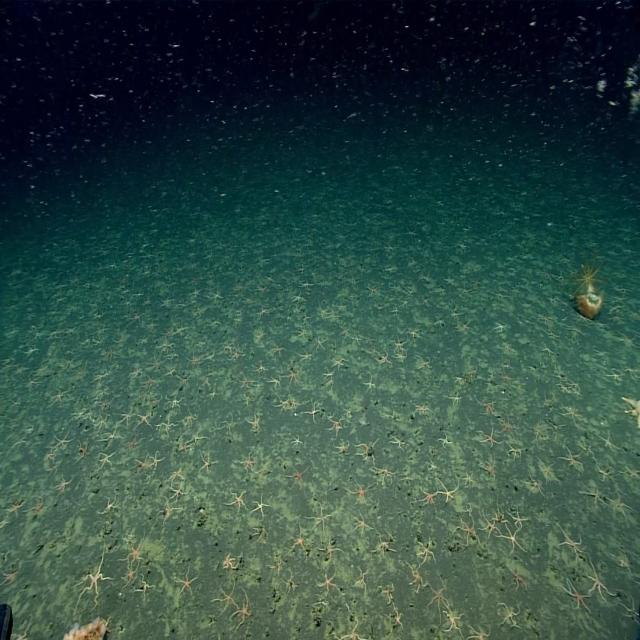brittle-stars: (79, 546, 111, 603), (587, 562, 612, 600), (559, 525, 582, 559), (565, 581, 590, 612), (308, 505, 333, 536), (456, 516, 480, 548), (233, 591, 253, 627), (502, 524, 525, 554), (288, 523, 308, 557), (174, 566, 196, 596), (428, 583, 448, 616), (214, 584, 236, 613), (125, 534, 146, 564), (444, 607, 465, 637), (500, 602, 522, 630), (338, 619, 367, 640), (582, 483, 606, 508), (611, 494, 634, 520), (285, 462, 308, 487), (348, 479, 370, 505), (408, 564, 427, 594), (316, 571, 339, 595), (374, 531, 394, 558), (527, 469, 548, 494), (354, 441, 376, 464), (228, 489, 248, 514), (320, 540, 340, 564), (538, 457, 557, 482), (510, 565, 528, 591), (159, 502, 181, 523), (524, 475, 544, 498), (562, 446, 582, 469), (417, 541, 436, 565), (358, 516, 377, 540), (352, 512, 370, 537), (251, 493, 269, 518), (439, 481, 459, 503), (54, 431, 74, 453), (598, 430, 618, 452), (510, 508, 529, 531), (482, 512, 499, 537), (562, 404, 582, 425), (102, 424, 122, 445), (6, 498, 26, 519), (101, 492, 119, 515), (499, 415, 517, 438), (200, 449, 217, 473), (137, 574, 154, 598), (480, 427, 500, 447), (97, 449, 117, 469), (374, 465, 395, 484), (26, 496, 44, 518), (124, 562, 140, 586), (157, 417, 177, 436), (420, 485, 438, 506), (302, 403, 320, 424), (478, 518, 495, 540), (169, 484, 188, 503), (56, 476, 76, 494), (220, 414, 237, 435), (480, 458, 497, 479), (329, 414, 345, 436), (468, 624, 490, 640), (389, 604, 403, 629), (284, 365, 301, 385), (222, 552, 239, 572), (240, 452, 256, 473), (388, 435, 406, 453), (52, 388, 69, 407), (530, 420, 544, 443), (437, 429, 451, 452), (182, 409, 198, 429), (413, 402, 431, 419), (390, 336, 408, 353), (480, 398, 497, 416), (238, 374, 255, 392), (126, 436, 142, 455), (95, 412, 111, 431), (258, 460, 273, 480), (247, 411, 261, 432), (169, 466, 185, 484), (136, 412, 152, 430), (509, 443, 525, 461), (77, 441, 90, 462), (362, 372, 375, 393), (335, 439, 351, 456), (168, 392, 184, 409), (149, 451, 163, 470), (376, 351, 392, 367), (173, 320, 188, 337), (416, 354, 431, 371), (142, 373, 157, 390), (121, 408, 135, 426), (136, 454, 150, 472), (252, 326, 266, 344), (448, 391, 463, 407), (271, 342, 286, 358), (606, 369, 622, 384), (159, 339, 175, 354), (190, 429, 204, 446), (188, 350, 201, 368), (500, 368, 514, 384), (499, 340, 513, 356), (462, 468, 474, 486), (333, 356, 348, 370), (269, 376, 282, 392), (254, 359, 267, 375), (300, 348, 314, 362), (291, 290, 305, 304), (330, 361, 344, 375), (231, 347, 244, 362), (392, 351, 407, 364), (210, 287, 223, 302), (315, 336, 327, 352), (178, 440, 190, 456), (540, 342, 552, 358), (494, 323, 508, 336), (290, 435, 302, 450), (162, 294, 174, 308), (363, 333, 375, 347), (220, 342, 232, 354)
